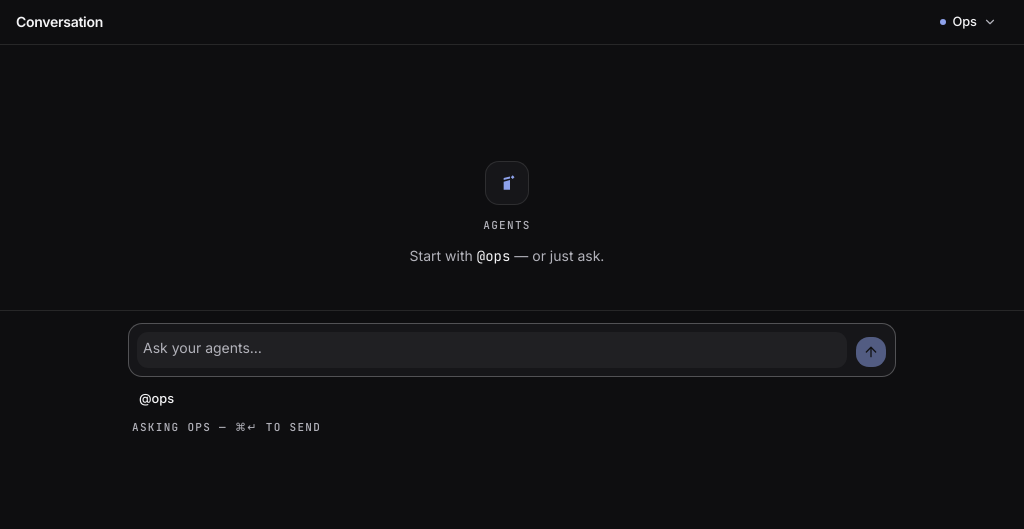
Test: AskChat › attributes the proposal outcome turn to the agent the SERVER stamped
In the text box named "Your question": (492, 350) [137,332,847,368], type "create Ship v2 in Backlog"
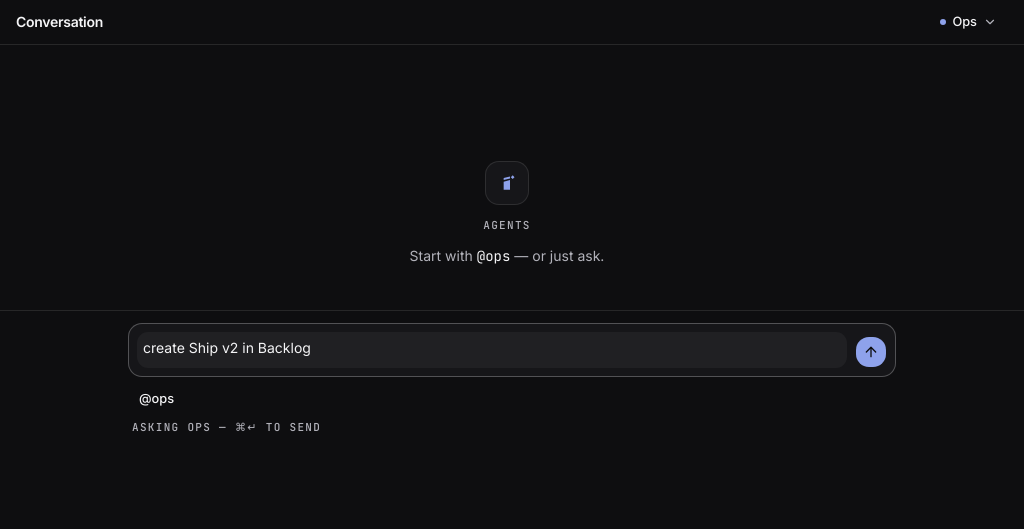
Press Enter in the text box named "Your question", box [137,332,847,368]
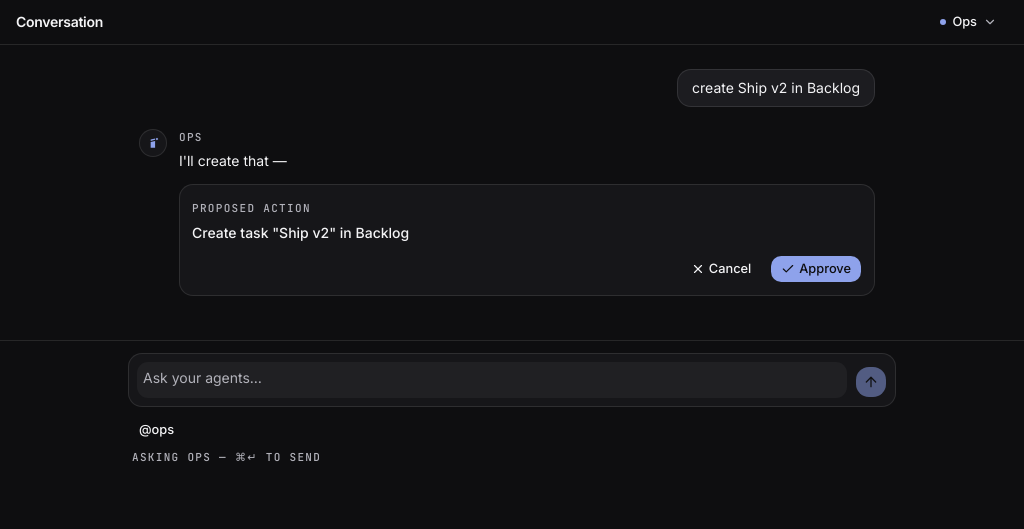
Now the text "Create task \"Ship v2\" in Backlog" is shown, box [192,224,409,241]
Click the button "Approve": (816, 269) [770,255,862,283]
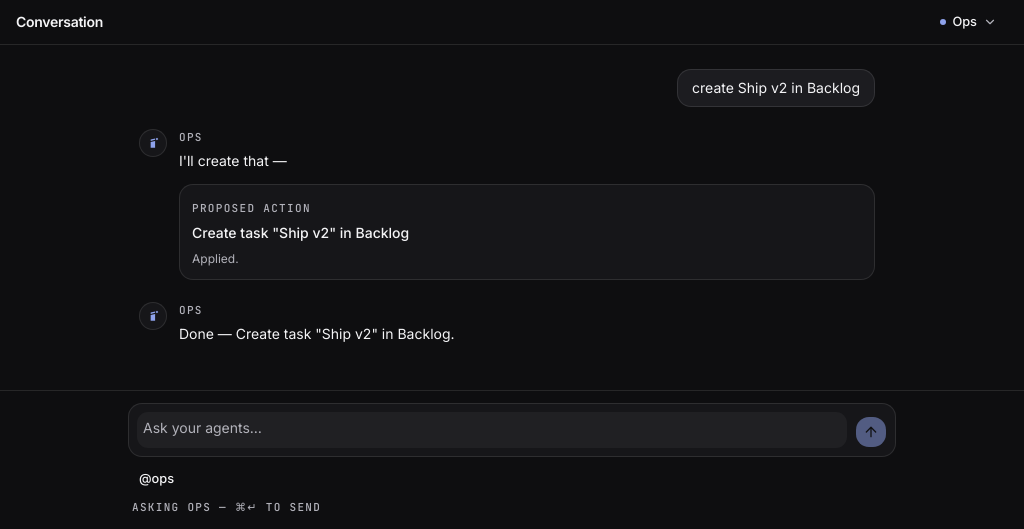
Now the text "Done — Create task \"Ship v2\" in Backlog." is shown, box [179,325,455,342]
